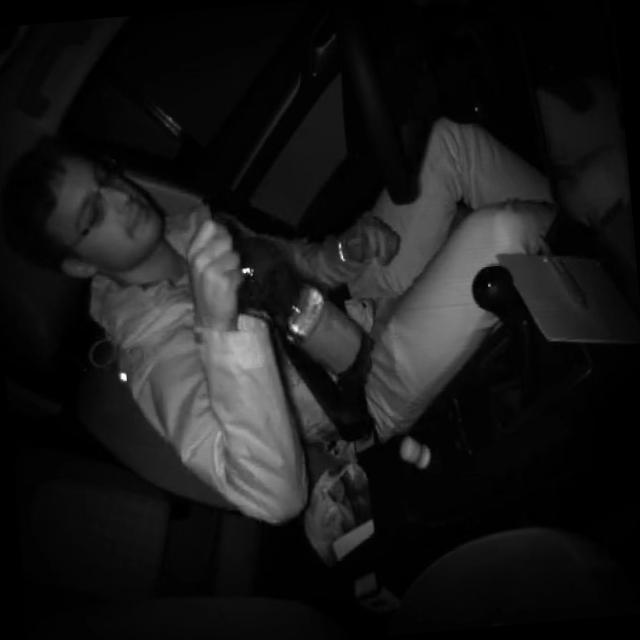pen: (534, 220, 592, 318)
